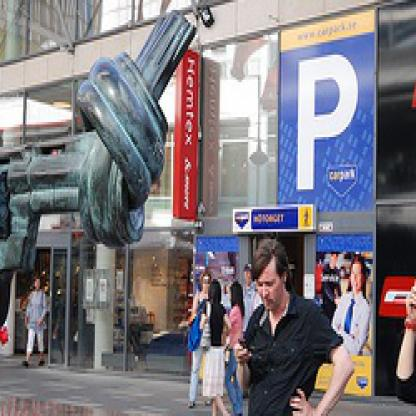gun: (0, 142, 83, 413)
